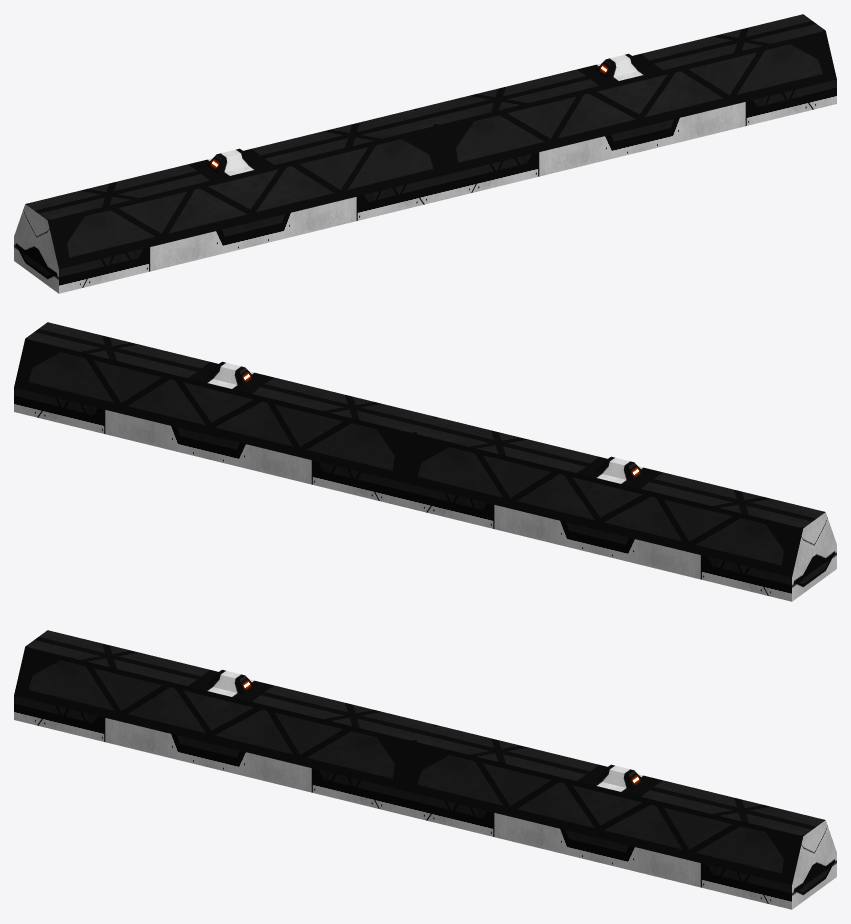
The model's file is RoadDivider.fbx.
The picture shows the model from 3 angles, top to bottom: view 1: azimuth 30°, elevation 25°; view 2: azimuth 150°, elevation 25°; view 3: azimuth 330°, elevation 25°; orthographic projection.
Parts seen in each view (by area): view 1: RM_Brdr2Sgmnt; view 2: RM_Brdr2Sgmnt; view 3: RM_Brdr2Sgmnt.
Part boxes in pixels (x1,y1,x2,y2): RM_Brdr2Sgmnt: [14, 14, 836, 293]; RM_Brdr2Sgmnt: [14, 322, 836, 601]; RM_Brdr2Sgmnt: [14, 630, 836, 909].
Size of the model in its own units: 2000 by 188 by 200.
